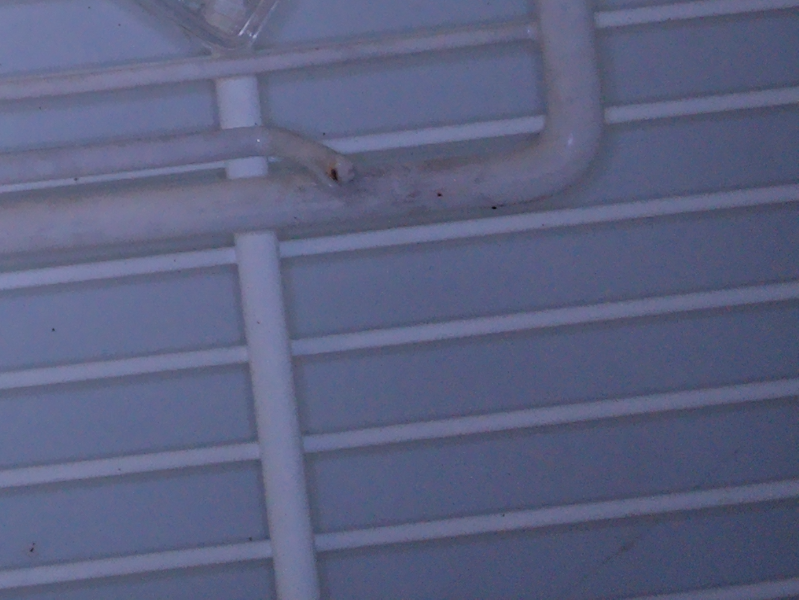plate: (131, 1, 285, 55)
